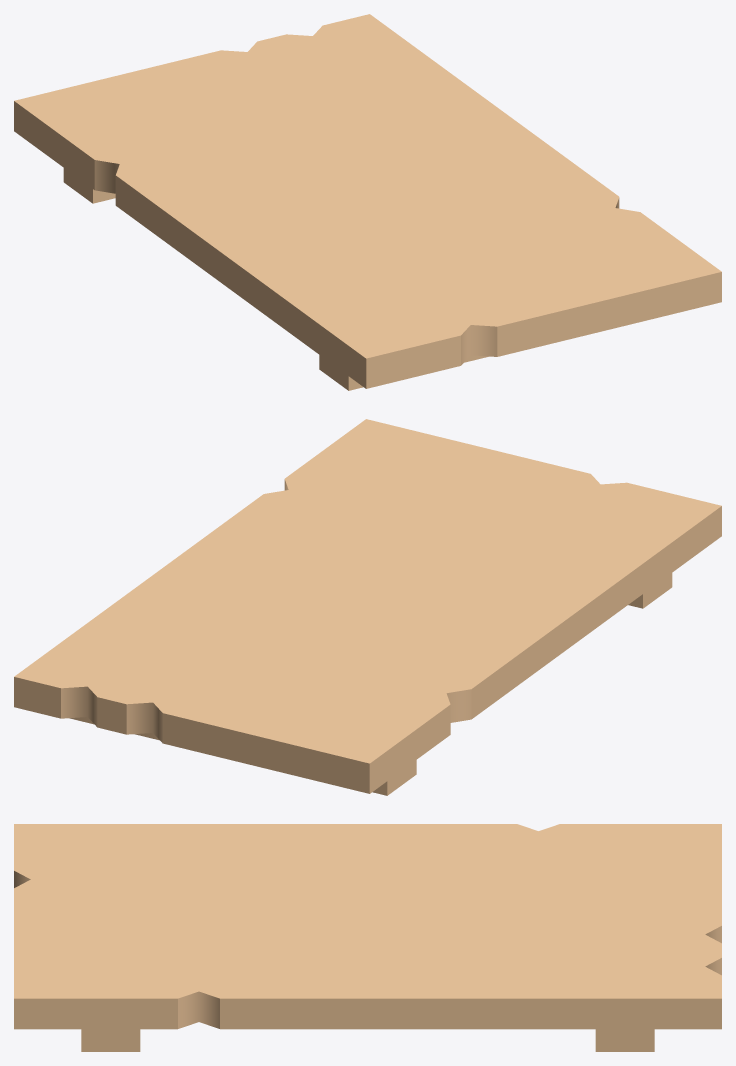
File: cuttingBoardJapanese.GLB
3 views of the same model, one above another, from view 1: azimuth 30°, elevation 25°; view 2: azimuth 150°, elevation 25°; view 3: azimuth 270°, elevation 25° (orthographic).
Parts seen in each view (by area): view 1: cuttingBoardJapanese; view 2: cuttingBoardJapanese; view 3: cuttingBoardJapanese.
Part boxes in pixels (x1,y1,x2,y2): cuttingBoardJapanese: (14,14,721,390); cuttingBoardJapanese: (14,419,721,795); cuttingBoardJapanese: (14,824,721,1051).
Size of the model in its own units: 0.49 by 0.08 by 0.84.
